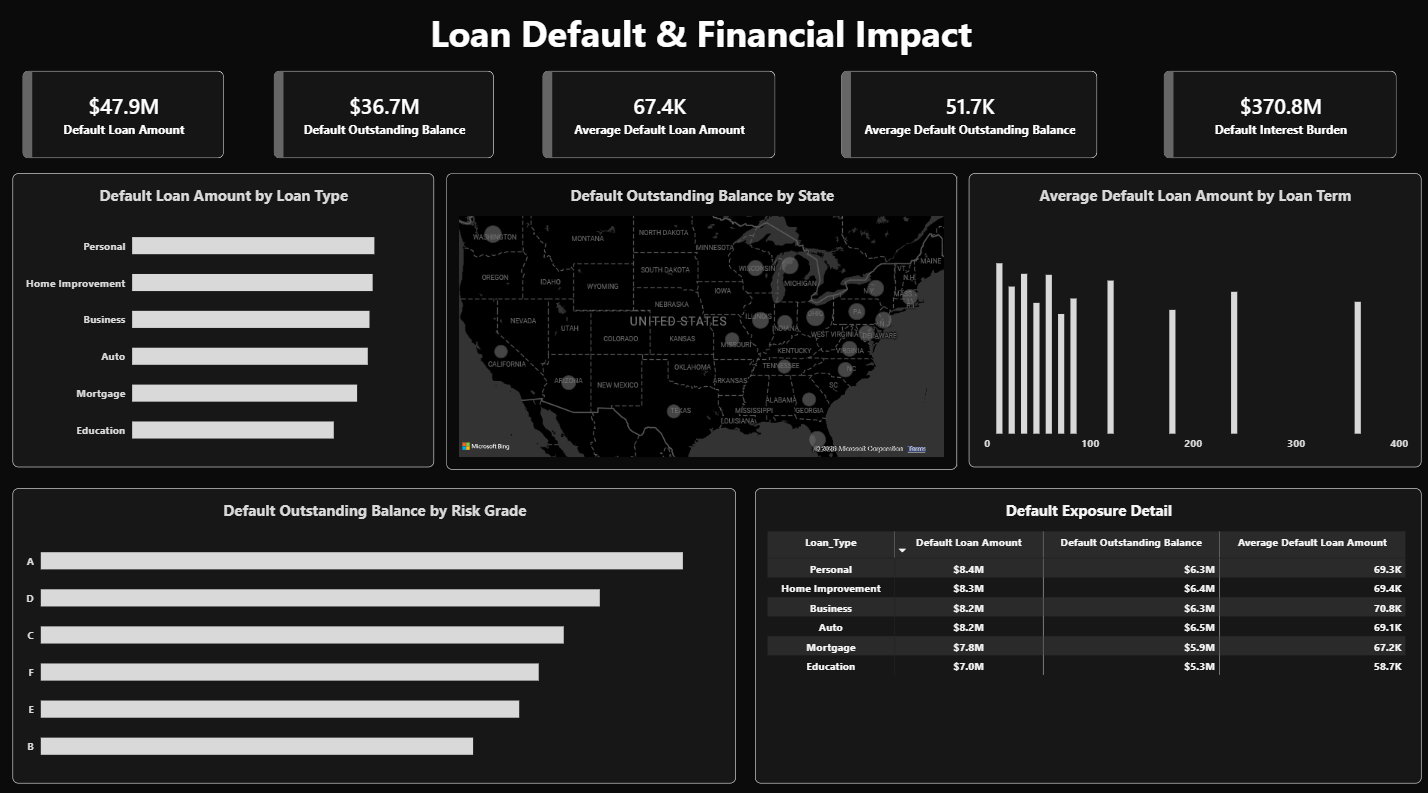

The dashboard page shown, as its layout file describes it:
{"tool":"powerbi","page":{"name":"Portfolio Exposure & Business Insights","canvas":[1920,1080],"ordinal":2},"visuals":[{"type":"textbox","box":[548.3,21.7,790.8,83.2],"z":0},{"type":"cardVisual","fields":{"Data":["financial_risk.Default Outstanding Balance"]},"box":[372.8,105,295,117.6],"z":1000},{"type":"cardVisual","fields":{"Data":["financial_risk.Default Loan Amount"]},"box":[36.2,105,269.6,117.6],"z":2000},{"type":"cardVisual","fields":{"Data":["financial_risk.Average Default Loan Amount"]},"box":[731.1,105,311.3,117.6],"z":3000},{"type":"cardVisual","fields":{"Data":["financial_risk.Average Default Outstanding Balance"]},"box":[1131,105,342,117.6],"z":4000},{"type":"cardVisual","fields":{"Data":["financial_risk.Default Interest Burden"]},"box":[1561.7,105,311.3,117.6],"z":5000},{"type":"clusteredBarChart","title":"Default Loan Amount by Loan Type","fields":{"Category":["financial_risk.Loan_Type"],"Y":["financial_risk.Default Loan Amount"]},"box":[23.5,242.5,562.8,392.7],"z":6000},{"type":"map","fields":{"Size":["financial_risk.Default Outstanding Balance"],"Category":["financial_risk.State"]},"box":[602.6,242.5,682.2,396.3],"z":7000},{"type":"columnChart","title":"Average Default Loan Amount by Loan Term","fields":{"Category":["financial_risk.Loan_Term_Months"],"Y":["financial_risk.Average Default Loan Amount"]},"box":[1301.1,242.5,604.4,392.7],"z":8000},{"type":"barChart","title":"Default Outstanding Balance by Risk Grade","fields":{"Category":["financial_risk.Risk_Grade"],"Y":["financial_risk.Default Outstanding Balance"]},"box":[23.5,662.3,966.4,394.5],"z":9000},{"type":"pivotTable","title":"Default Exposure Detail","fields":{"Rows":["financial_risk.Loan_Type"],"Values":["financial_risk.Default Loan Amount","financial_risk.Default Outstanding Balance","financial_risk.Average Default Loan Amount"]},"box":[1015.2,662.3,890.4,394.5],"z":10000}]}

Visuals, with their boxes in screenshot pixels (x1, y1, x2, y2), scaled from the page's 1920x1080 canvas onto the 1428x793 screenshot:
textbox: [408, 16, 996, 77]
cardVisual - financial_risk.Default Outstanding Balance: [277, 77, 497, 163]
cardVisual - financial_risk.Default Loan Amount: [27, 77, 227, 163]
cardVisual - financial_risk.Average Default Loan Amount: [544, 77, 775, 163]
cardVisual - financial_risk.Average Default Outstanding Balance: [841, 77, 1096, 163]
cardVisual - financial_risk.Default Interest Burden: [1162, 77, 1393, 163]
"Default Loan Amount by Loan Type" clusteredBarChart: [17, 178, 436, 466]
map - financial_risk.Default Outstanding Balance x financial_risk.State: [448, 178, 956, 469]
"Average Default Loan Amount by Loan Term" columnChart: [968, 178, 1417, 466]
"Default Outstanding Balance by Risk Grade" barChart: [17, 486, 736, 776]
"Default Exposure Detail" pivotTable: [755, 486, 1417, 776]
